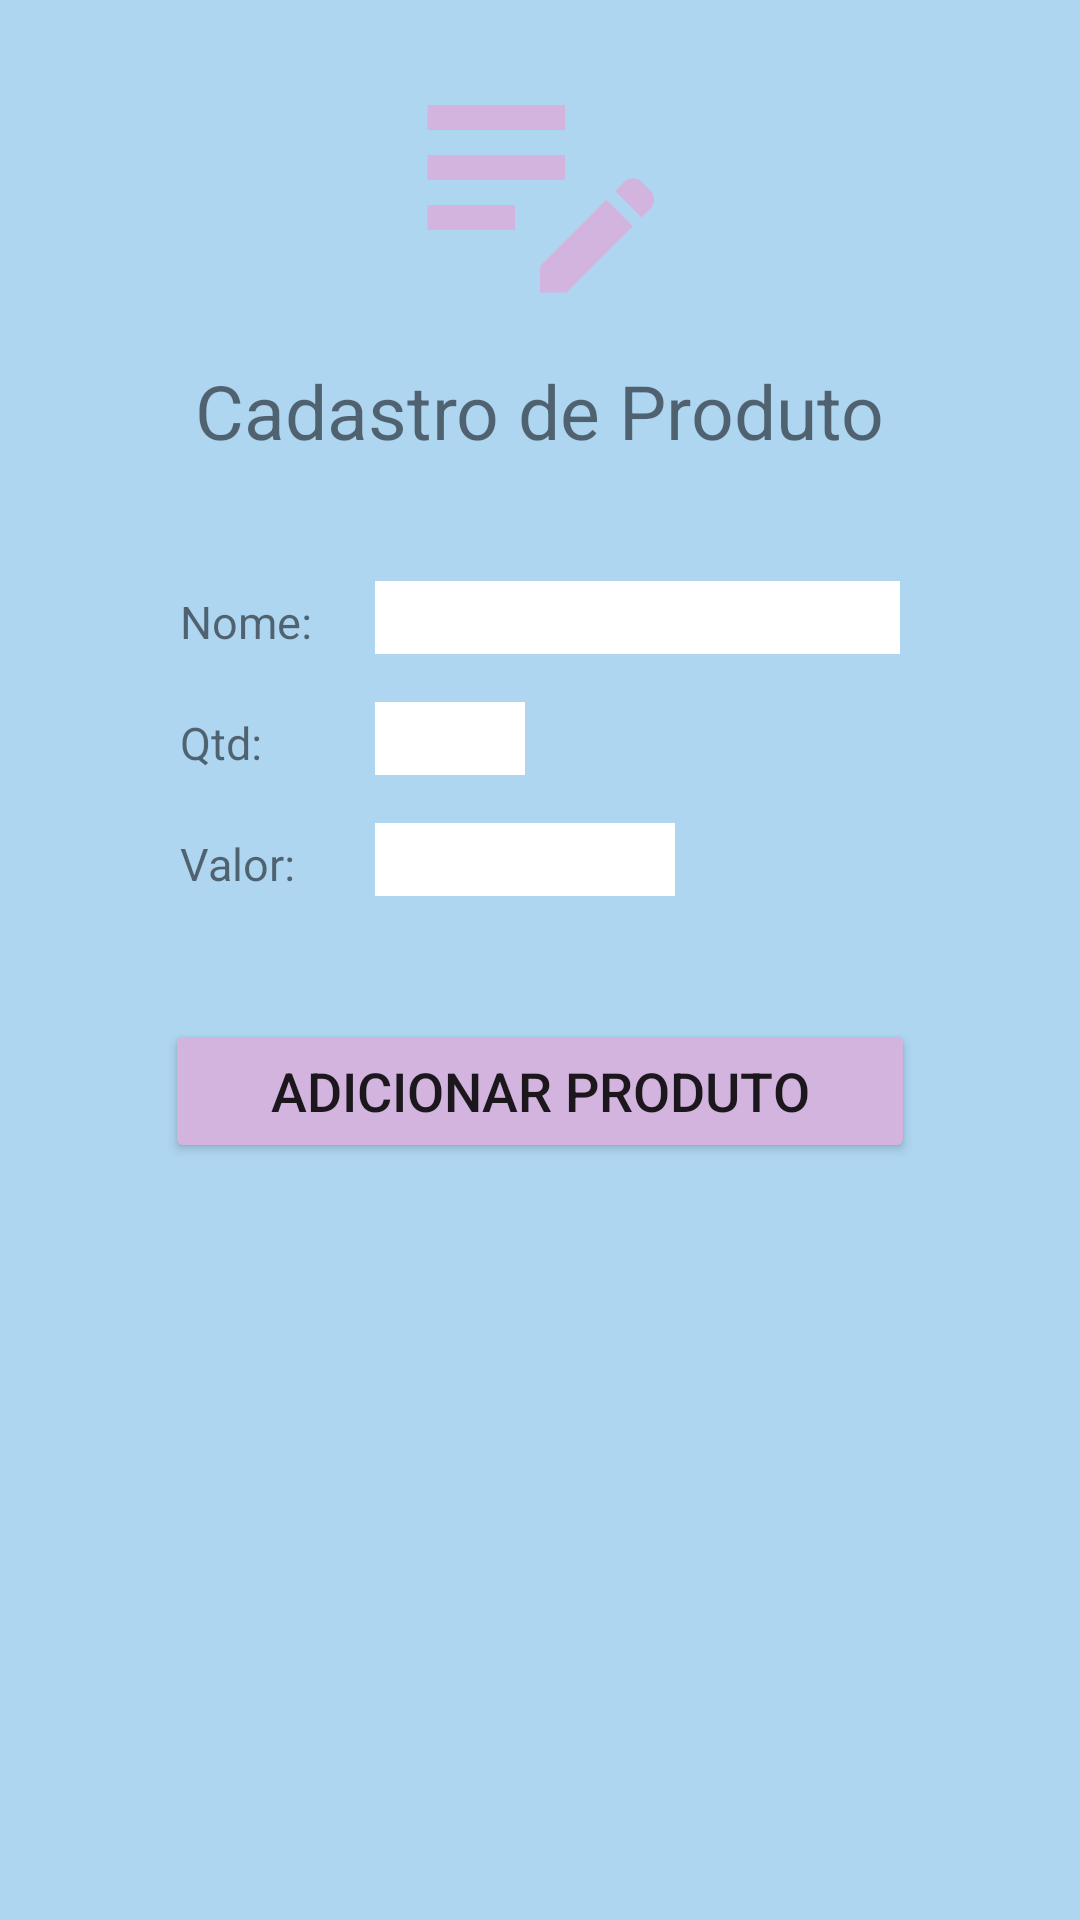

Icon click points for this 1080×1920 phone screenshot, format point (x, y):
edit note: point (541, 198)
